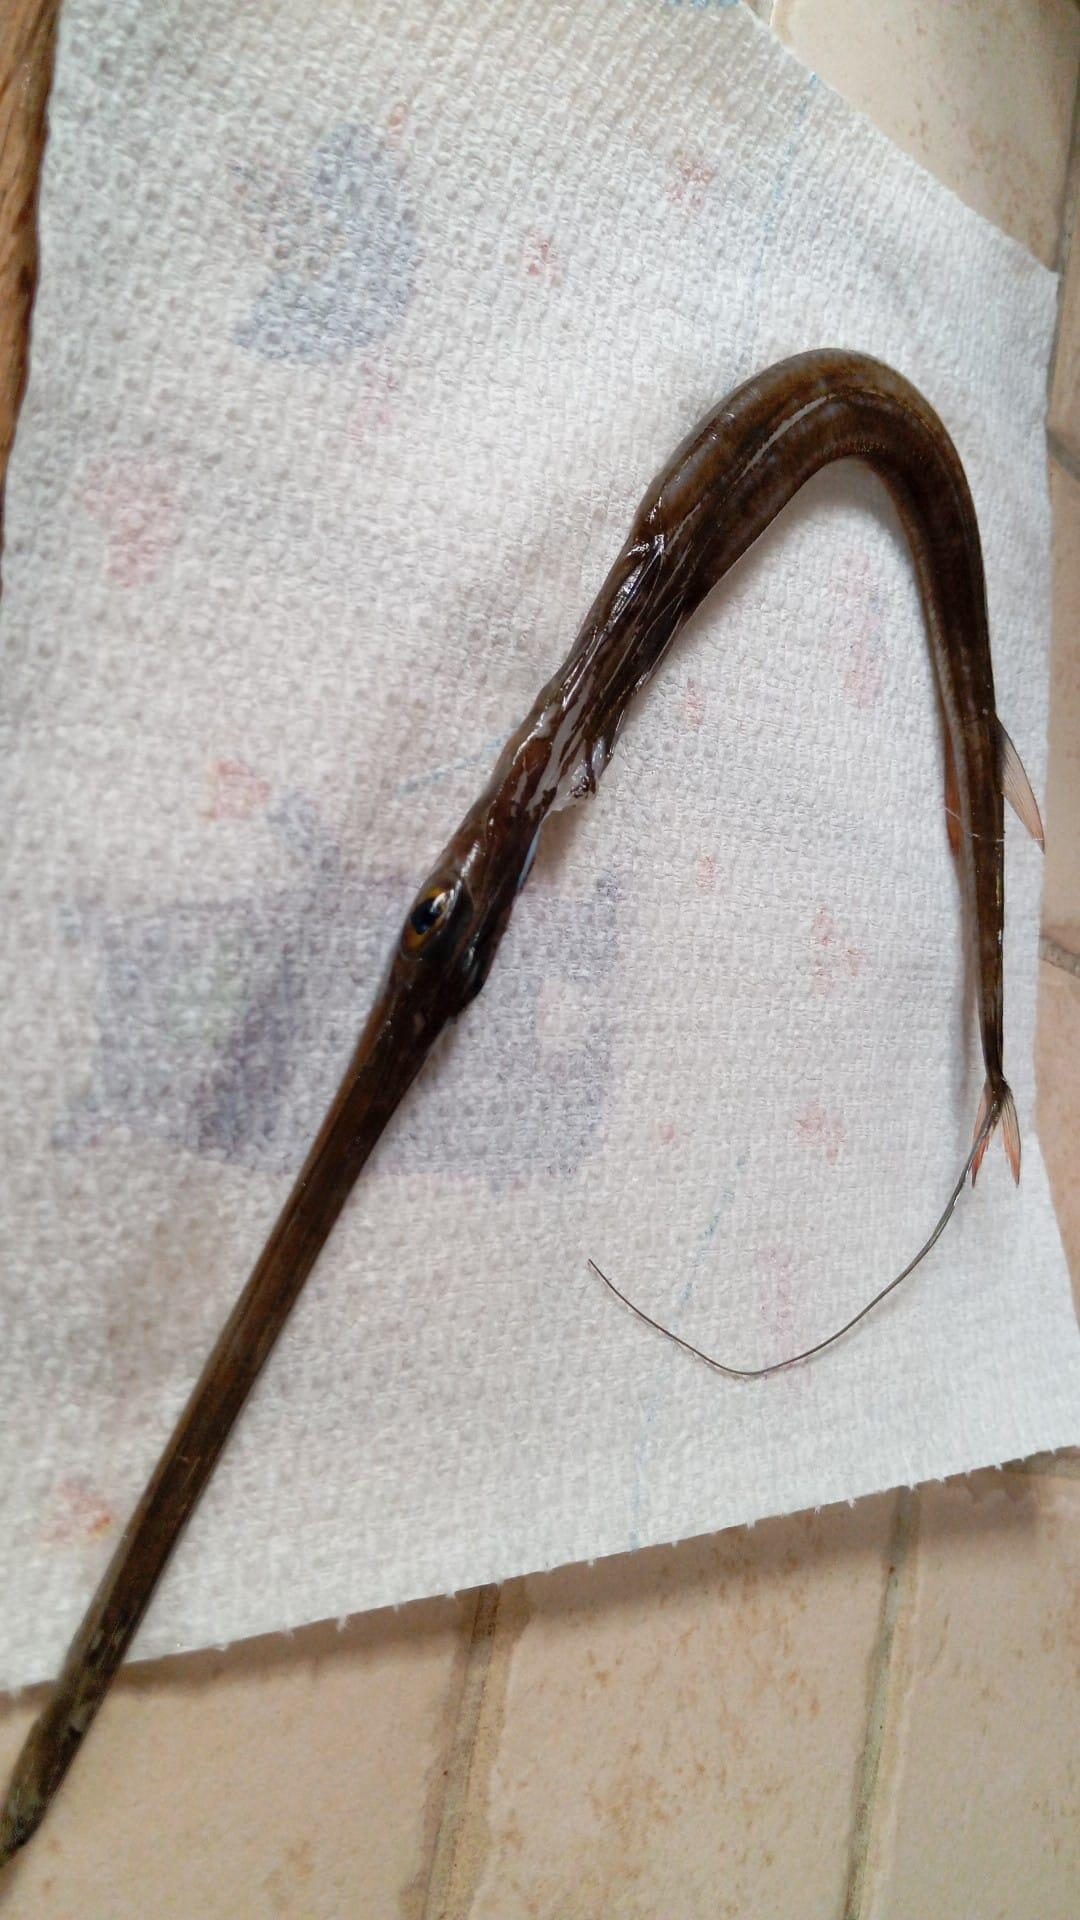Fistularia commersonii: (28, 157, 1060, 1842)
